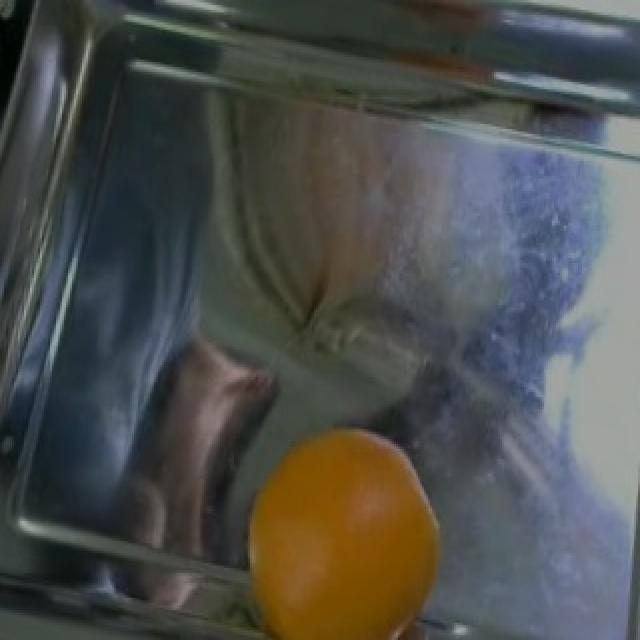Fruit: (216, 404, 452, 640)
